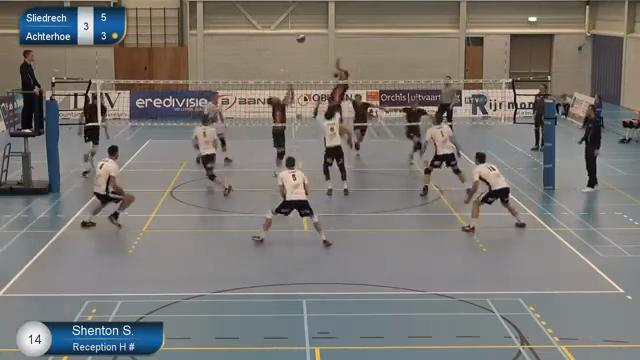alzata: (263, 82, 296, 179)
attacco: (322, 57, 354, 145)
muro: (308, 91, 354, 200)
